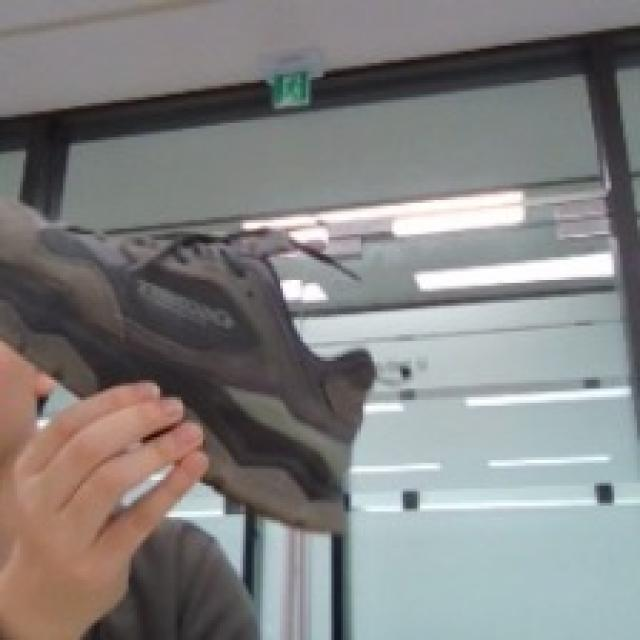shoe: (0, 136, 409, 540)
